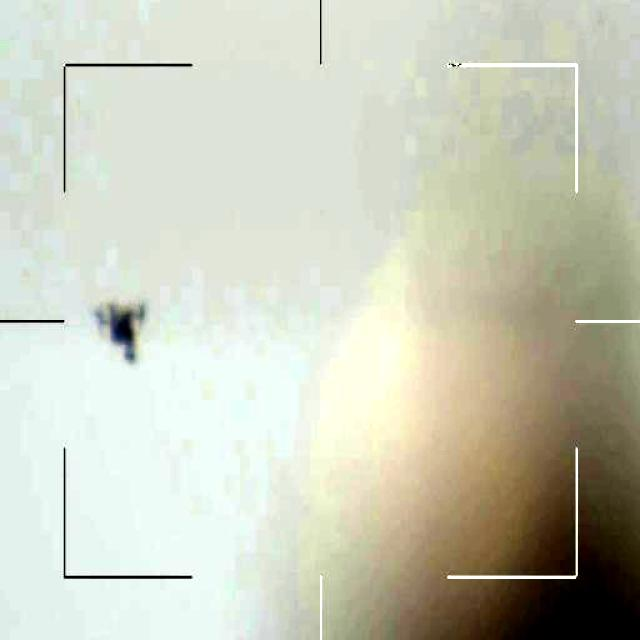bird: (99, 291, 160, 360)
